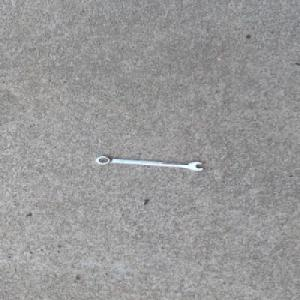Wrench: (94, 155, 205, 171)
